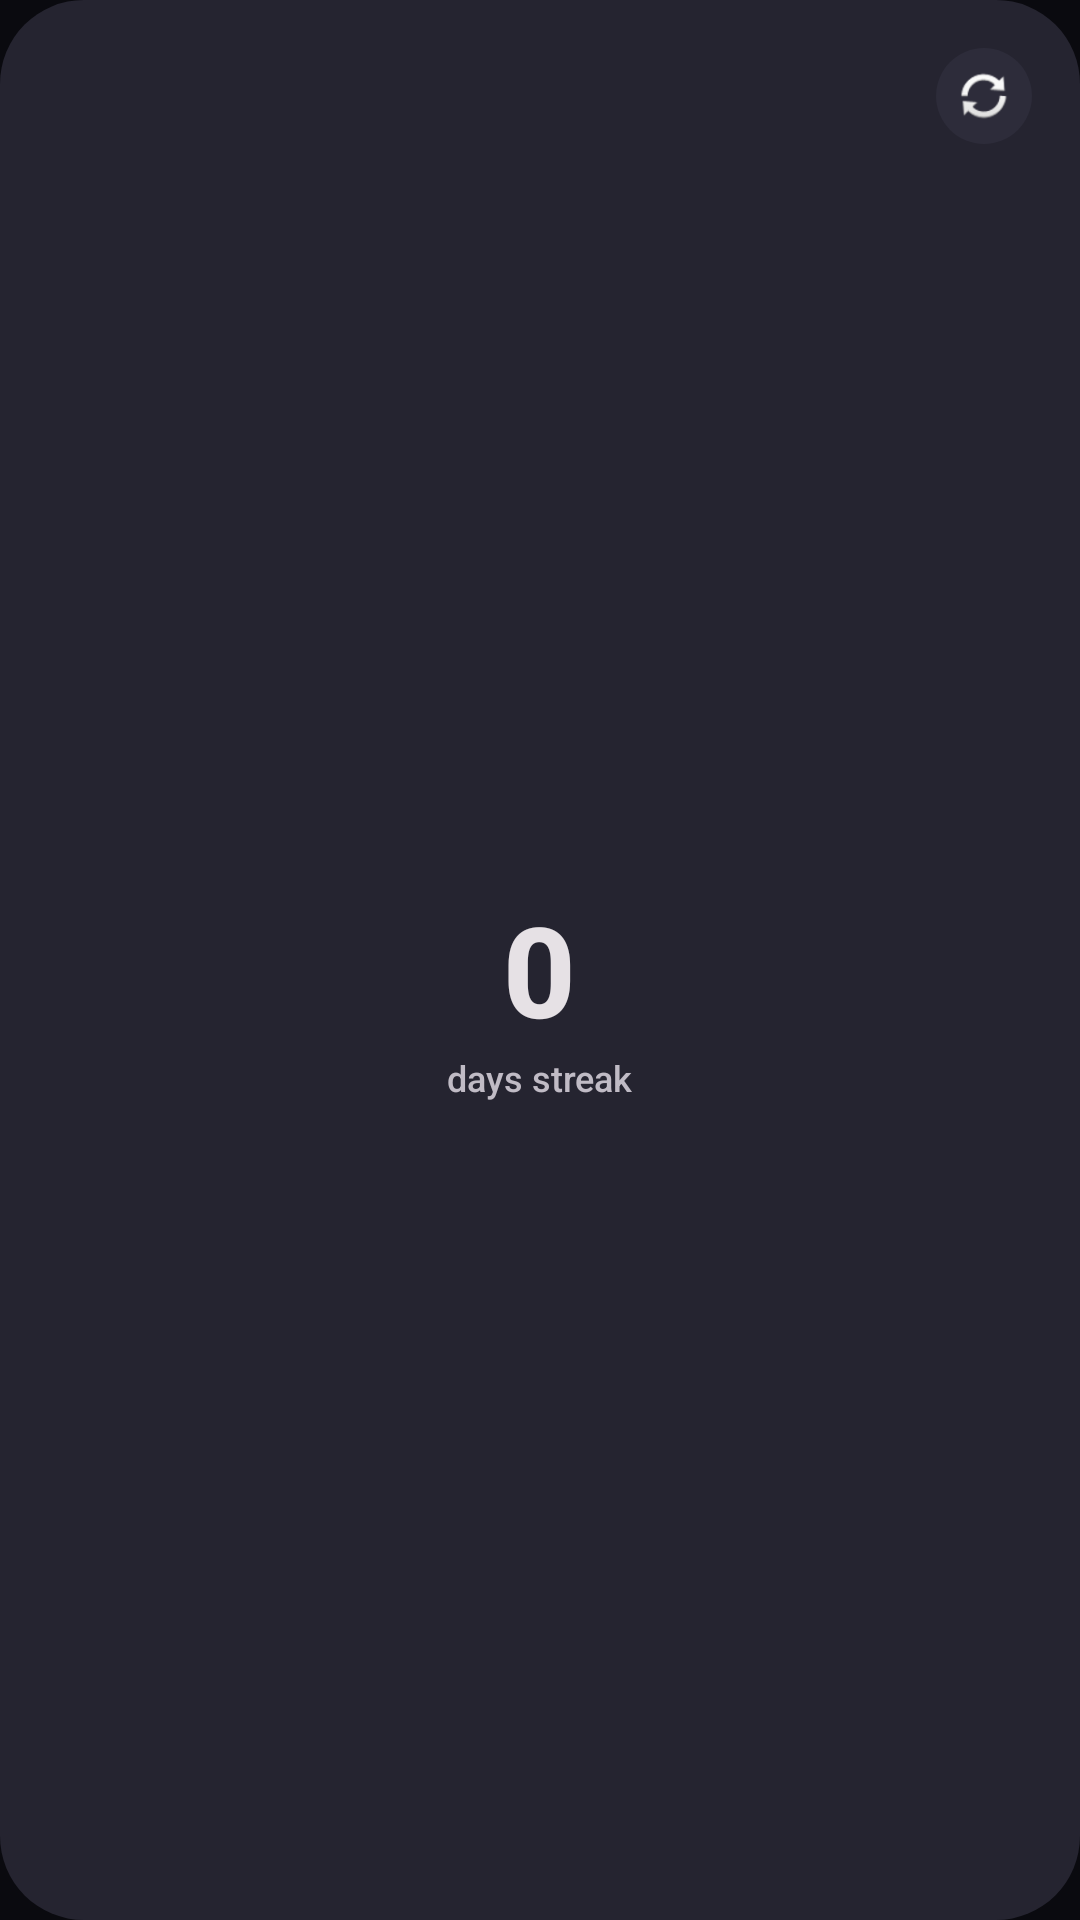

Icons on this 1080 x 1920 Android screen, each with its box as (x1, y1, x2, y2):
Refresh: (936, 48, 1032, 144)
